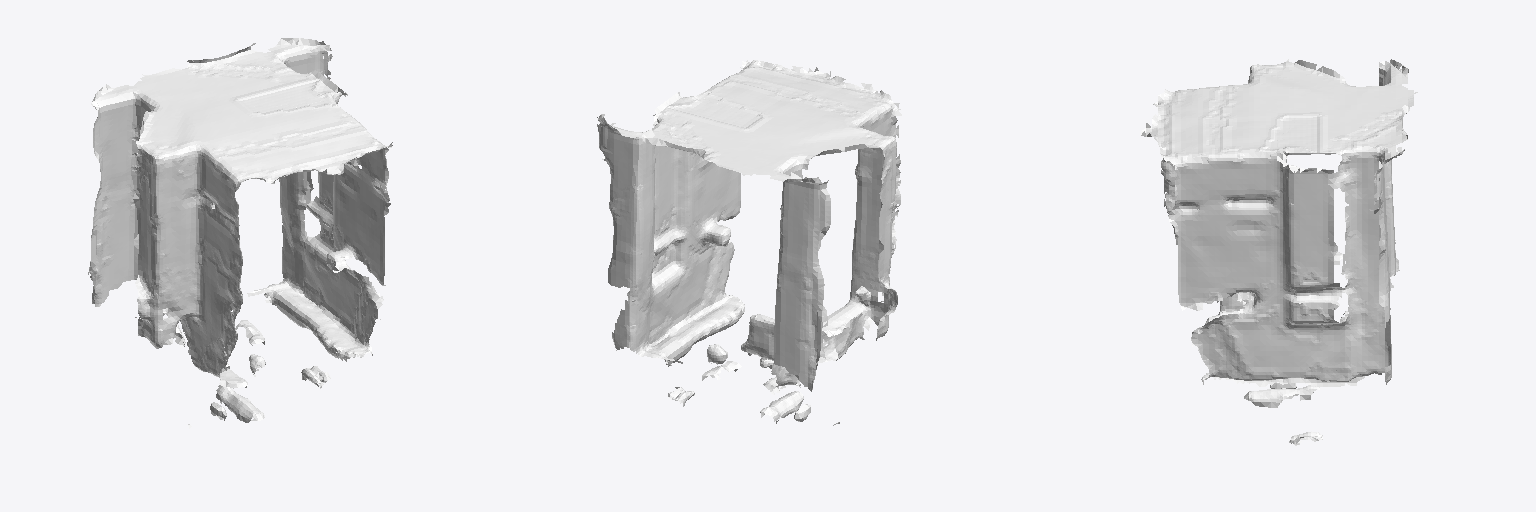
The model's file is RampEntry.obj.
3 views of the same model, side by side, from view 1: azimuth 30°, elevation 25°; view 2: azimuth 150°, elevation 25°; view 3: azimuth 270°, elevation 25° (orthographic).
Size of the model in its own units: 4.16 by 4.98 by 4.05.